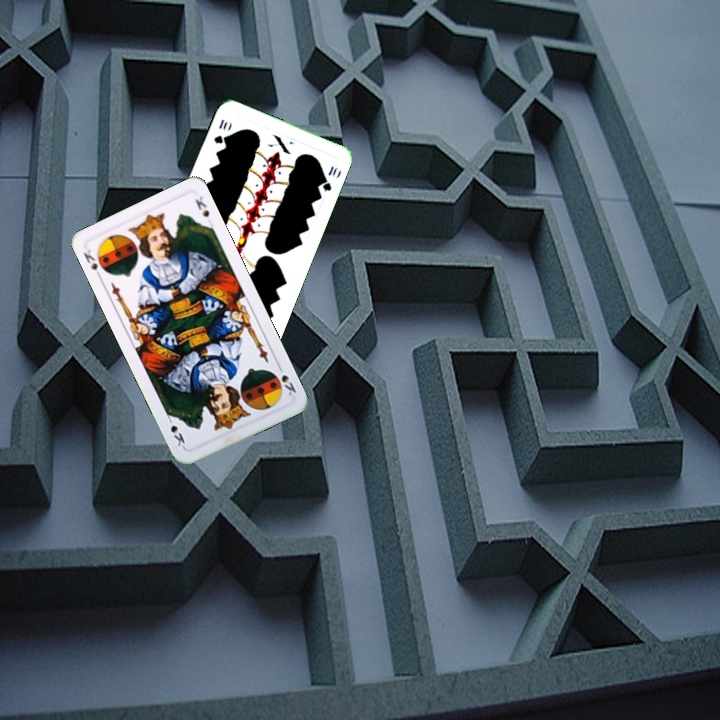G10: (210, 115, 230, 146)
SK: (268, 360, 299, 398), (79, 246, 104, 282)
